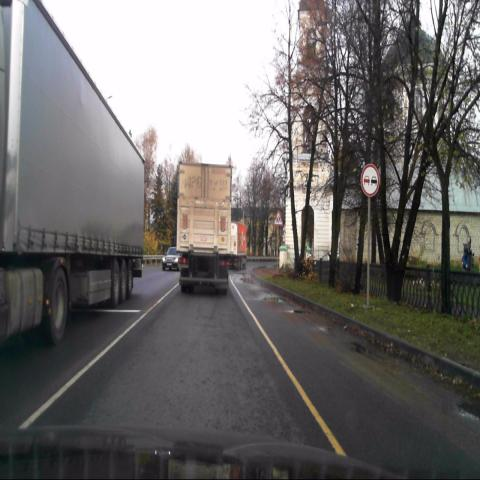1_23: (274, 210, 283, 226)
3_20: (360, 164, 380, 197)
